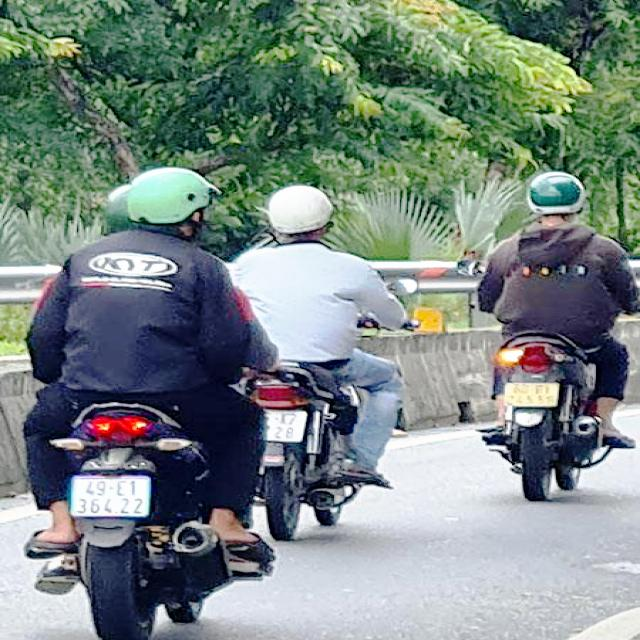license_plate: (69, 476, 150, 516), (507, 384, 562, 407)
